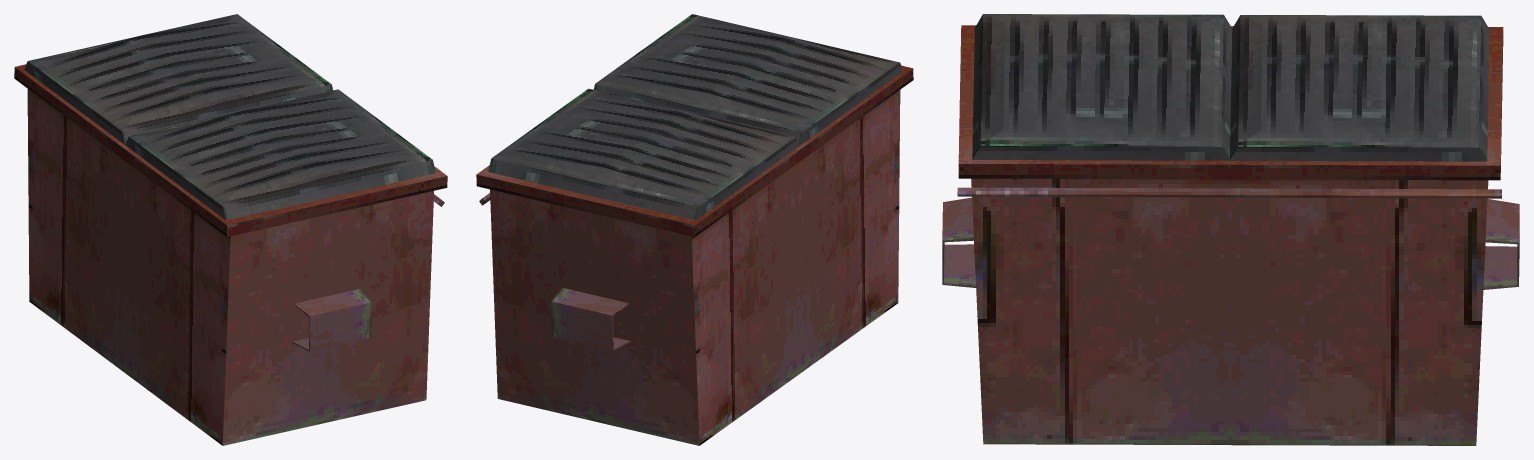
The model's file is dumpster_lid_closed_red.glb.
3 views of the same model, side by side, from view 1: azimuth 30°, elevation 25°; view 2: azimuth 150°, elevation 25°; view 3: azimuth 270°, elevation 25° (orthographic). The views are drawn at different scales.
Visible parts, largest first — view 1: dumpster_lid_closed_red; view 2: dumpster_lid_closed_red; view 3: dumpster_lid_closed_red.
Part boxes in pixels (x1,y1,x2,y2): dumpster_lid_closed_red: (14,14,447,445); dumpster_lid_closed_red: (476,14,913,445); dumpster_lid_closed_red: (942,14,1519,445).
Size of the model in its own units: 2.06 by 2.21 by 3.68.
Materials: 1 (1 with a texture image).
